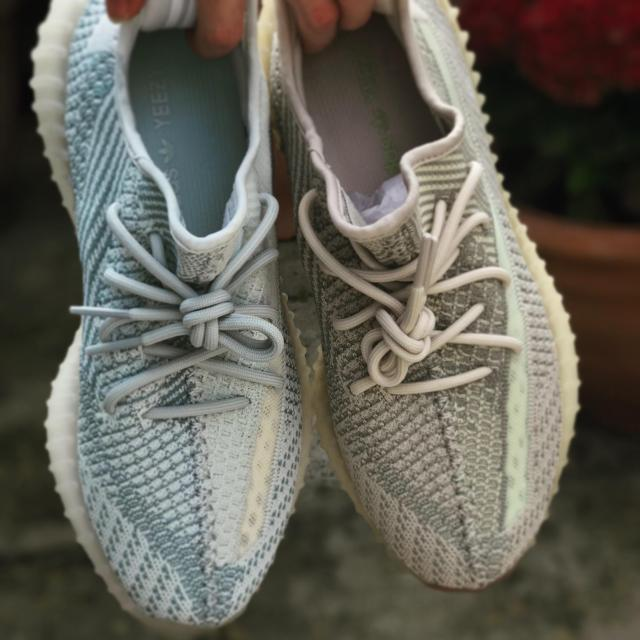shoe: (258, 0, 579, 594), (27, 0, 309, 629)
